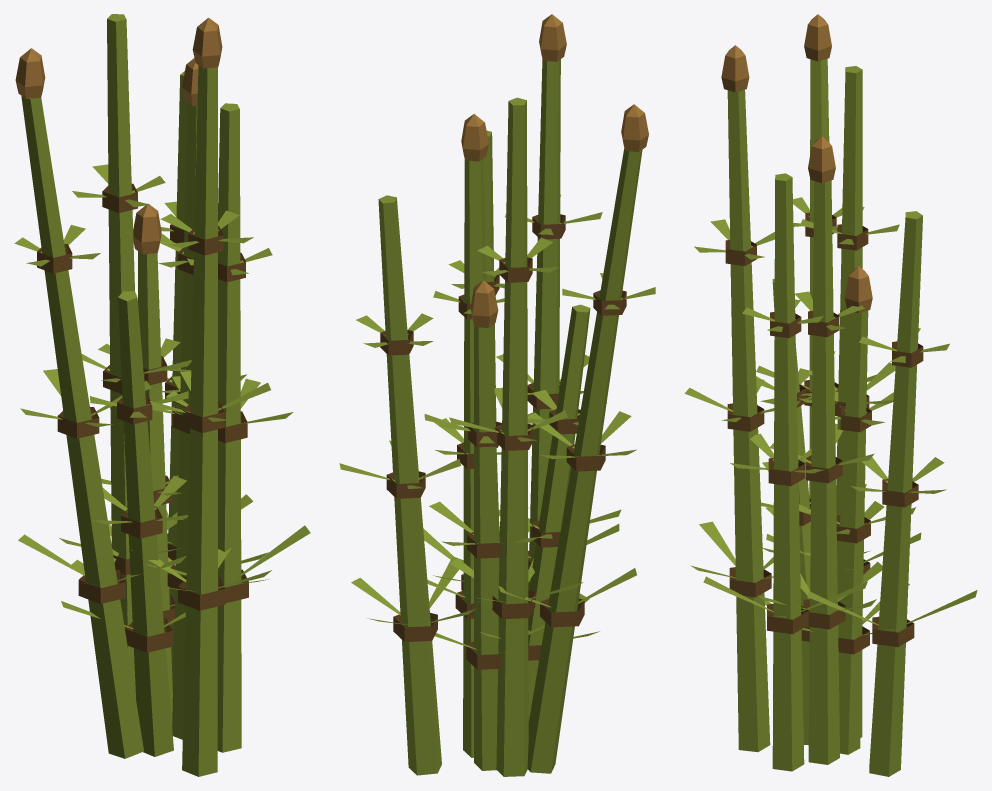
File: prele.glb
3 renders of one model, left to right at view 1: azimuth 30°, elevation 25°; view 2: azimuth 150°, elevation 25°; view 3: azimuth 270°, elevation 25°, orthographic. The views are drawn at different scales.
Parts seen in each view (by area): view 1: prele; view 2: prele; view 3: prele.
Part boxes in pixels (x1,y1,x2,y2): prele: (14, 14, 310, 776); prele: (339, 14, 655, 776); prele: (684, 14, 977, 776).
Size of the model in its own units: 0.4336 by 1.16 by 0.4378.
